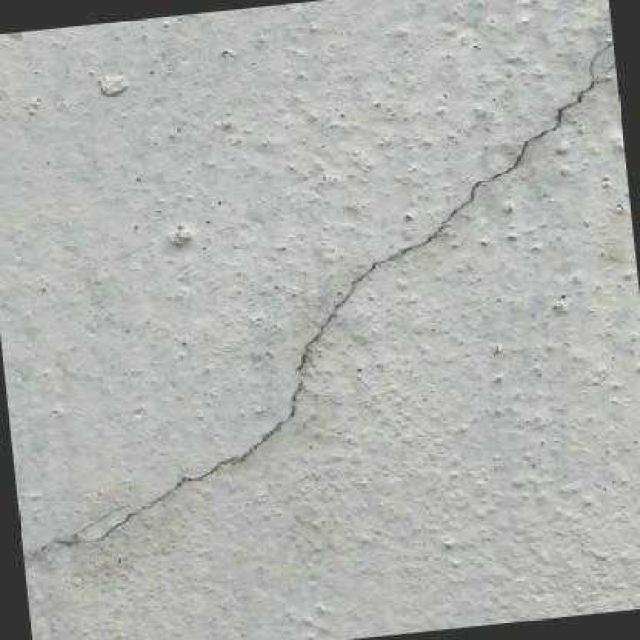D00: (23, 38, 613, 558)
